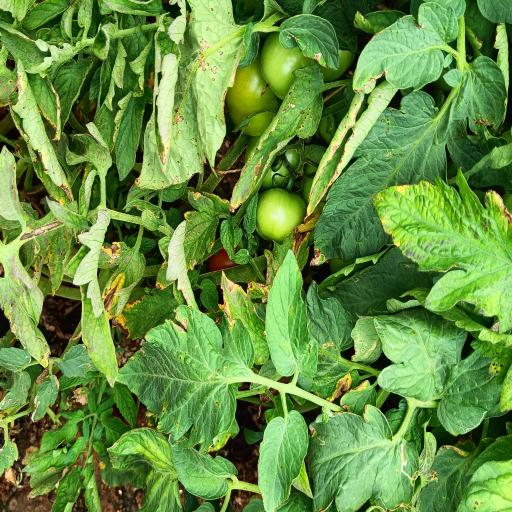Early Blight: (372, 165, 512, 334), (133, 0, 237, 196), (118, 305, 252, 454), (228, 62, 326, 213), (8, 60, 76, 210), (96, 237, 147, 327)
Leaf_Miner: (389, 439, 416, 484)
